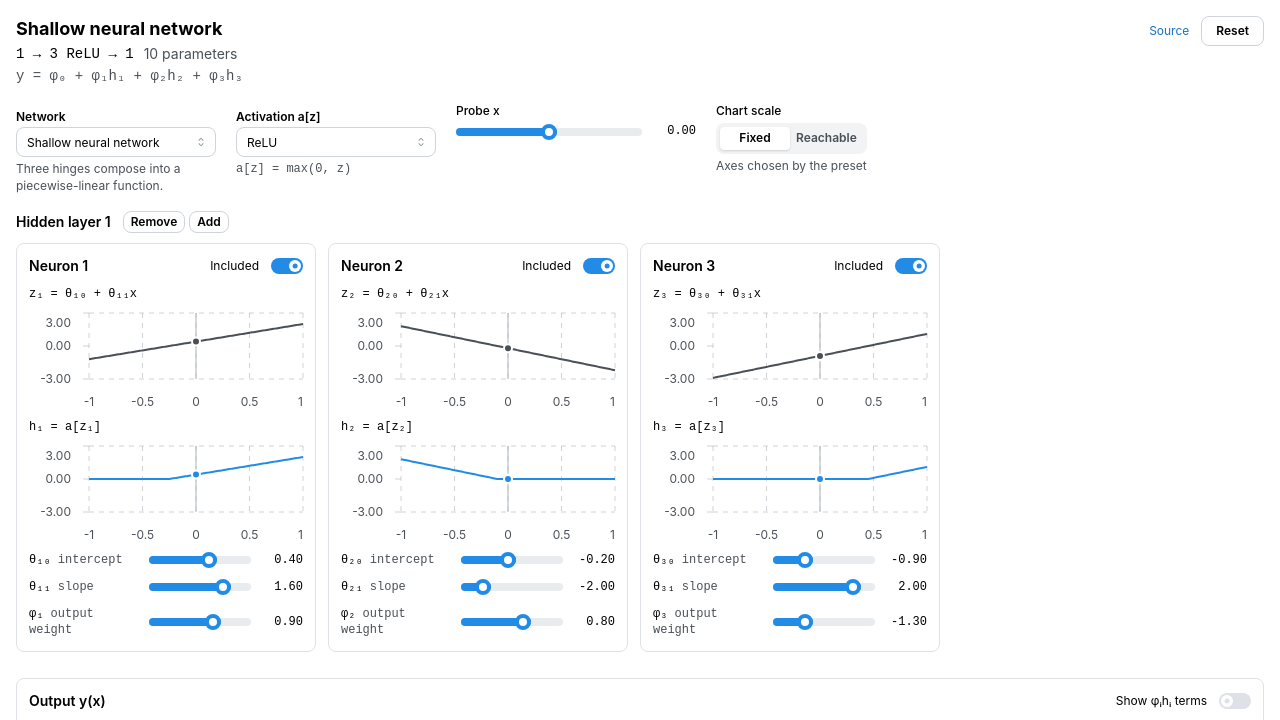
Test case: reset returns to the stable teaching scale
The image size is (1280, 720).
Click the radio button labelled "Reachable" at (826, 138), box [796,130,857,146]
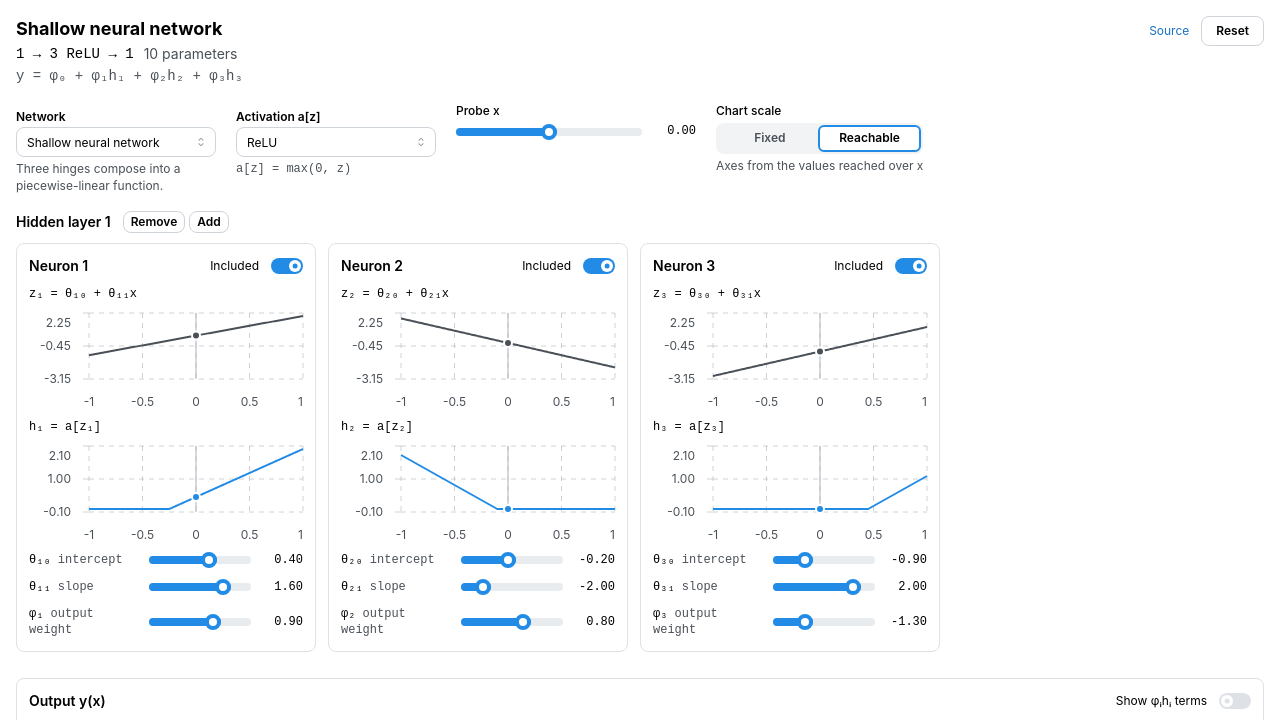
Click the button "Reset" at (1233, 31), box [1201,16,1264,46]
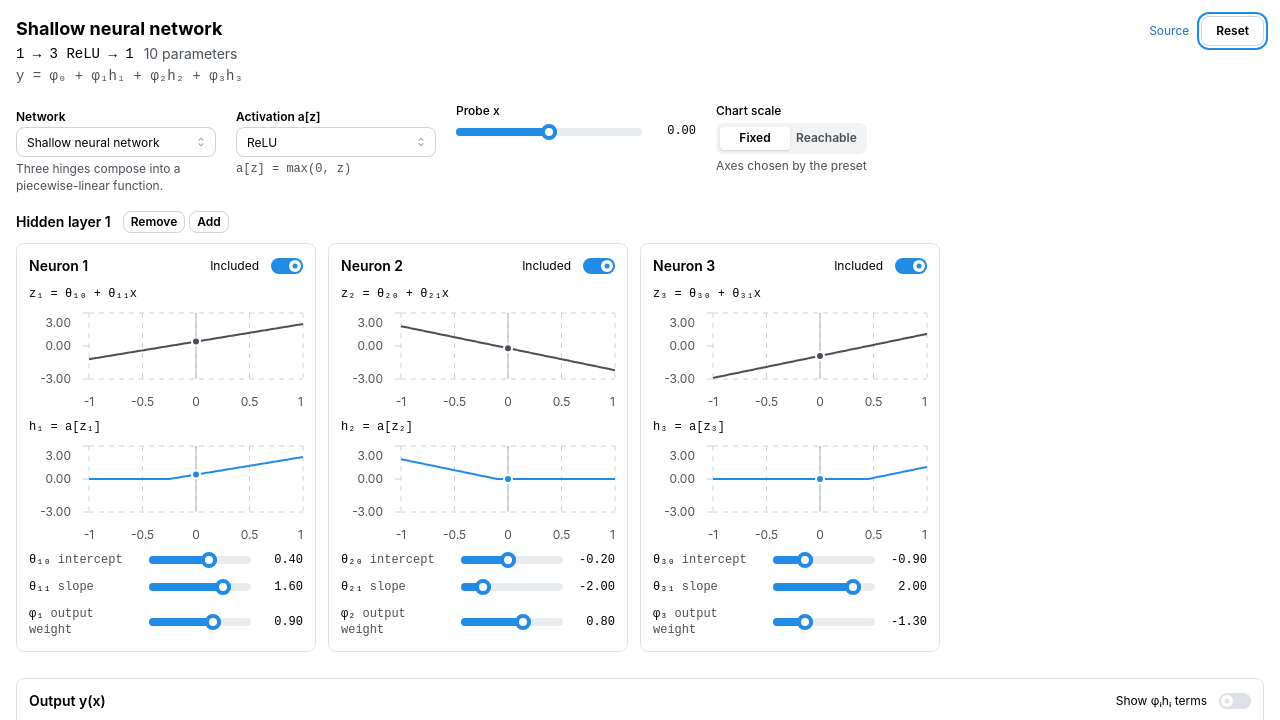
Expected: the text "Axes chosen by the preset" is shown, [716,158,867,175]
